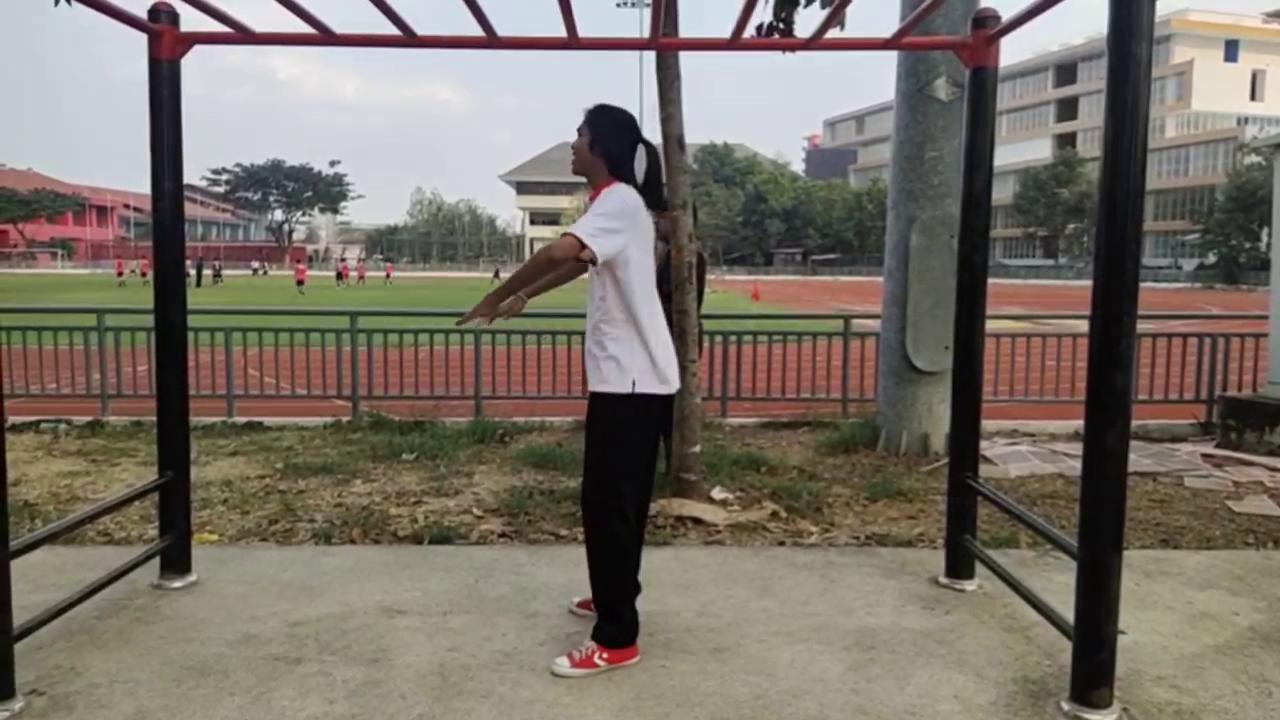squat up: (458, 105, 680, 678)
